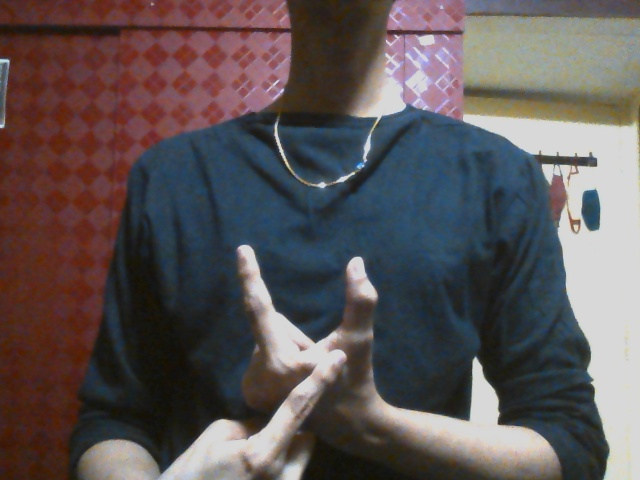Y: (178, 244, 377, 480)
